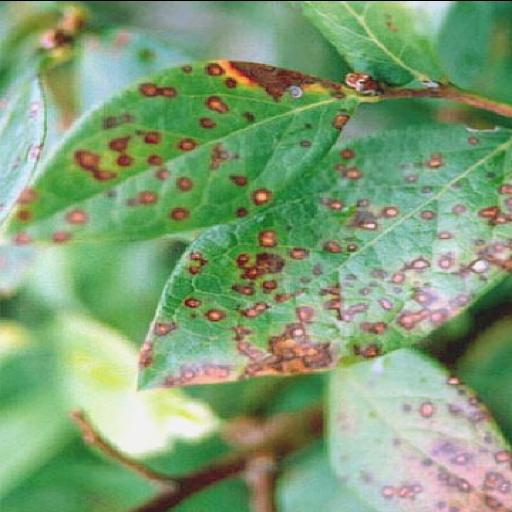disease_tomato: (130, 120, 508, 394), (0, 50, 359, 242), (318, 344, 512, 512)
